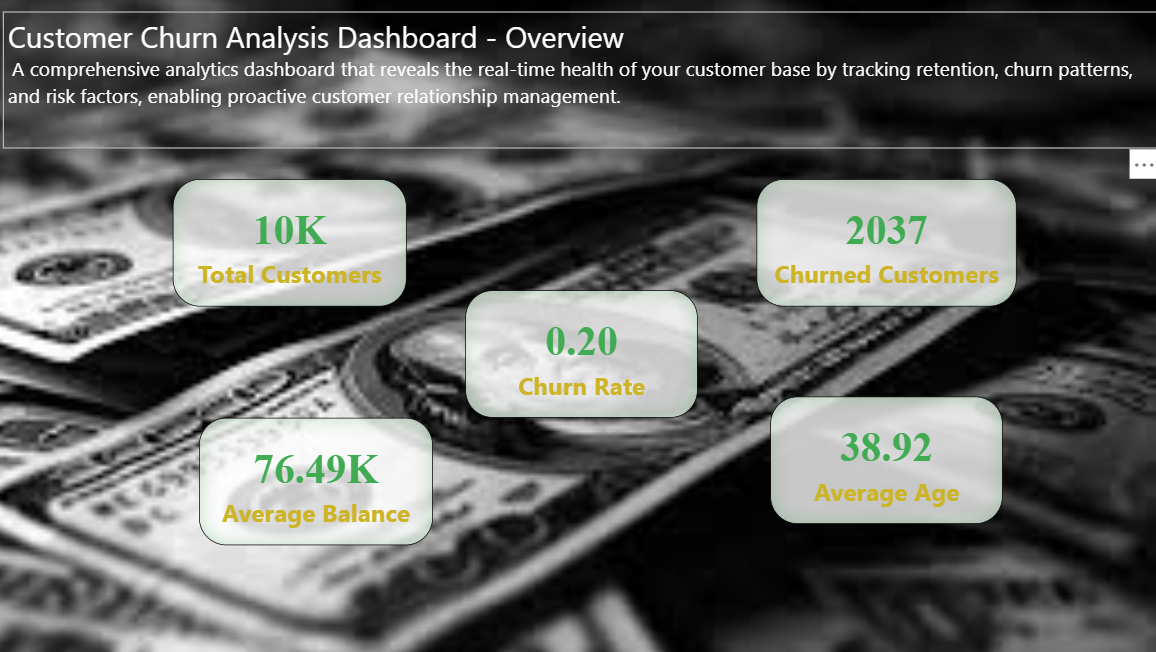

This screenshot's page, from the dashboard's own definition file:
{"tool":"powerbi","page":{"name":"Executive Overview","canvas":[1280,720],"ordinal":0},"visuals":[{"type":"card","fields":{"Values":["Bank_Churn.Total Customers"]},"box":[196.2,197.6,256.6,140],"z":0},{"type":"card","fields":{"Values":["Bank_Churn.Churn Rate"]},"box":[517.3,319.7,255.2,140],"z":1000},{"type":"card","fields":{"Values":["Bank_Churn.Churned Customers"]},"box":[837.1,197.6,285.4,140],"z":2000},{"type":"card","fields":{"Values":["Bank_Churn.Average Balance"]},"box":[225,459.7,256.6,140],"z":3000},{"type":"card","fields":{"Values":["Bank_Churn.Average Age"]},"box":[852.1,436.4,255.2,140],"z":4000},{"type":"textbox","box":[10,14.3,1270,150],"z":5000}]}

Visuals, with their boxes in screenshot pixels (x1, y1, x2, y2), scaled from the page's 1280x720 canvas onto the 1156x652 screenshot:
card - Bank_Churn.Total Customers: [177, 179, 409, 306]
card - Bank_Churn.Churn Rate: [467, 290, 698, 416]
card - Bank_Churn.Churned Customers: [756, 179, 1014, 306]
card - Bank_Churn.Average Balance: [203, 416, 435, 543]
card - Bank_Churn.Average Age: [770, 395, 1000, 522]
textbox: [9, 13, 1155, 149]
